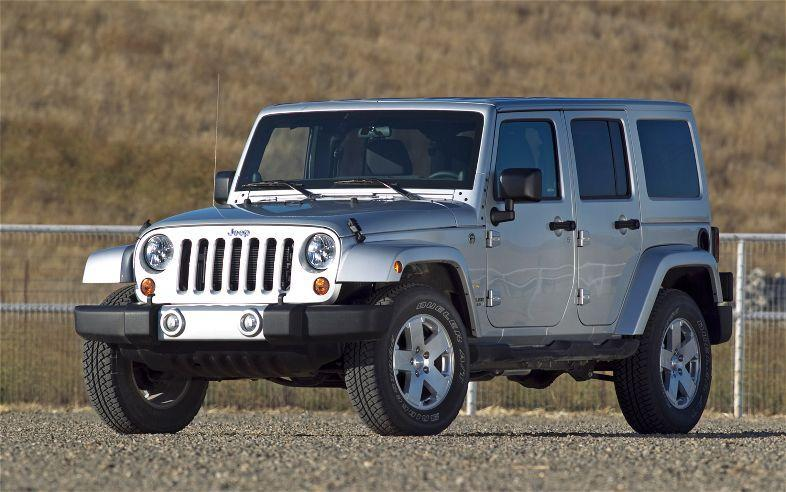jeep: (221, 224, 253, 244)
